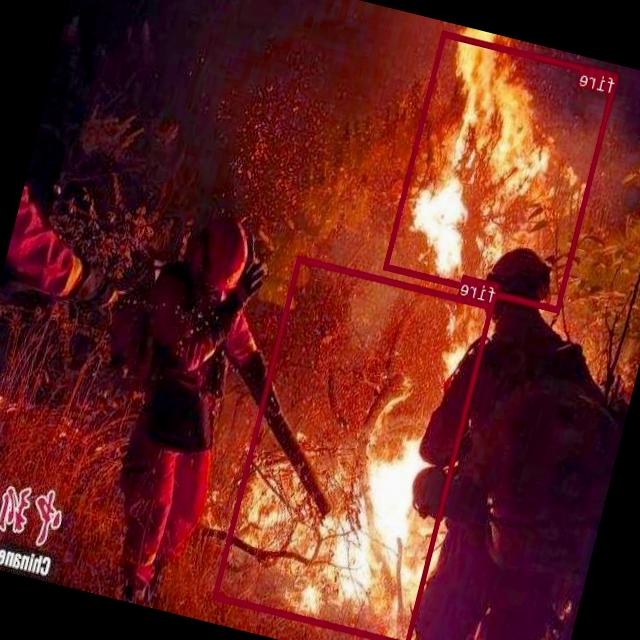fire: (213, 254, 495, 640), (384, 31, 618, 312)
